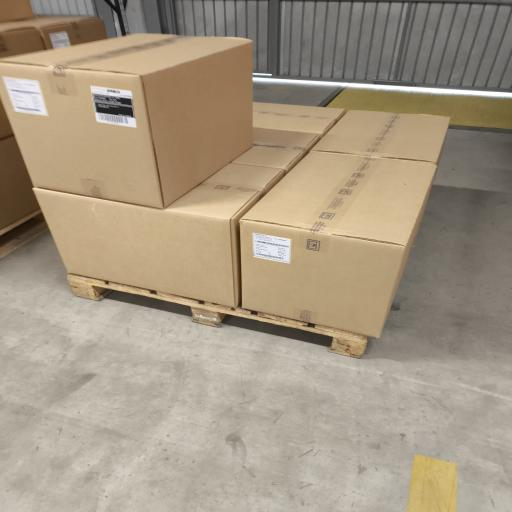pallet: (68, 274, 368, 357), (0, 210, 48, 258)
